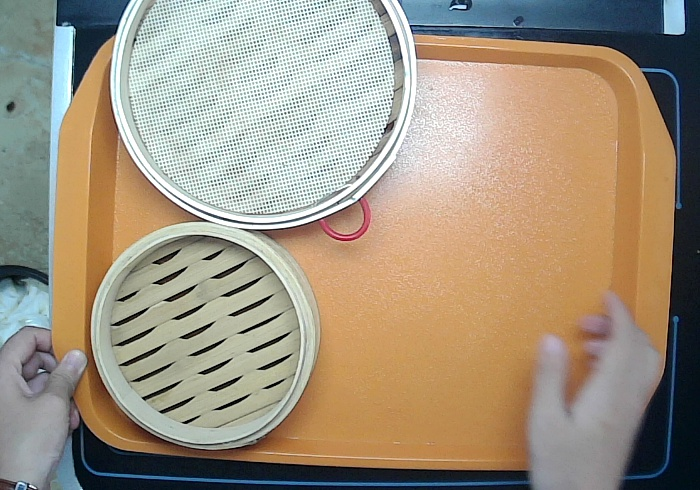ZNLD-Da_Zheng_Long: (106, 1, 422, 242)
ZNLD-Xiao_Zheng_Long: (88, 217, 322, 450)
